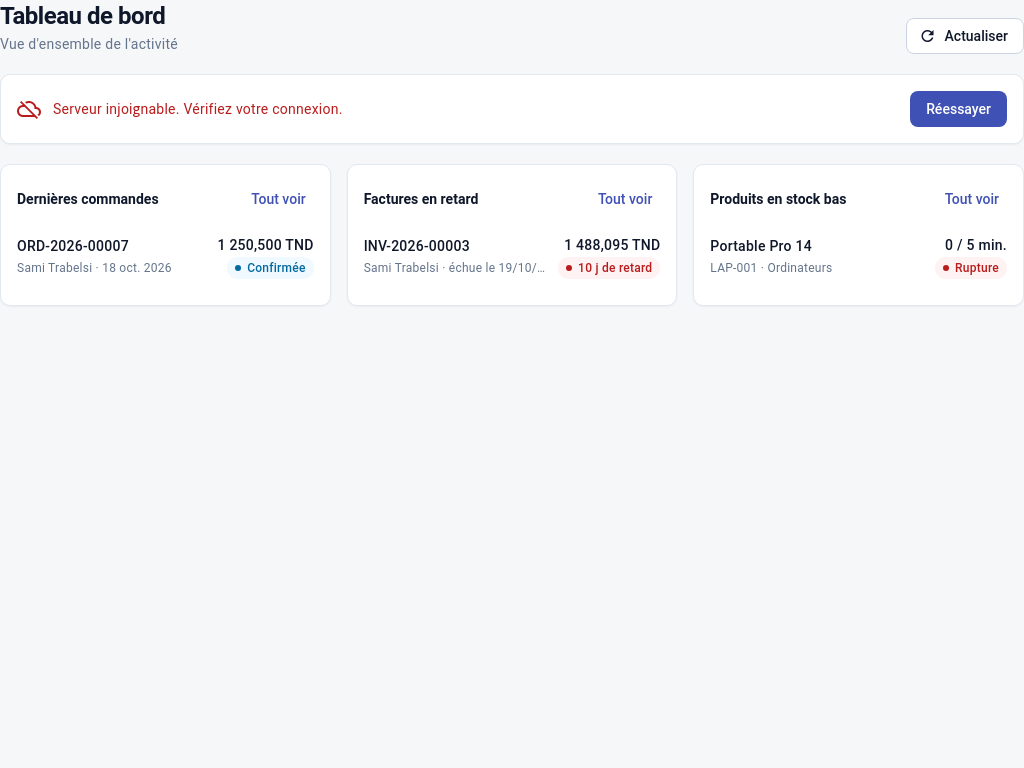
Scenario: DashboardComponent › shows the error and reloads on demand
Click the button with class "retry" at (959, 109), box top-left (910, 91), bottom-right (1007, 127)
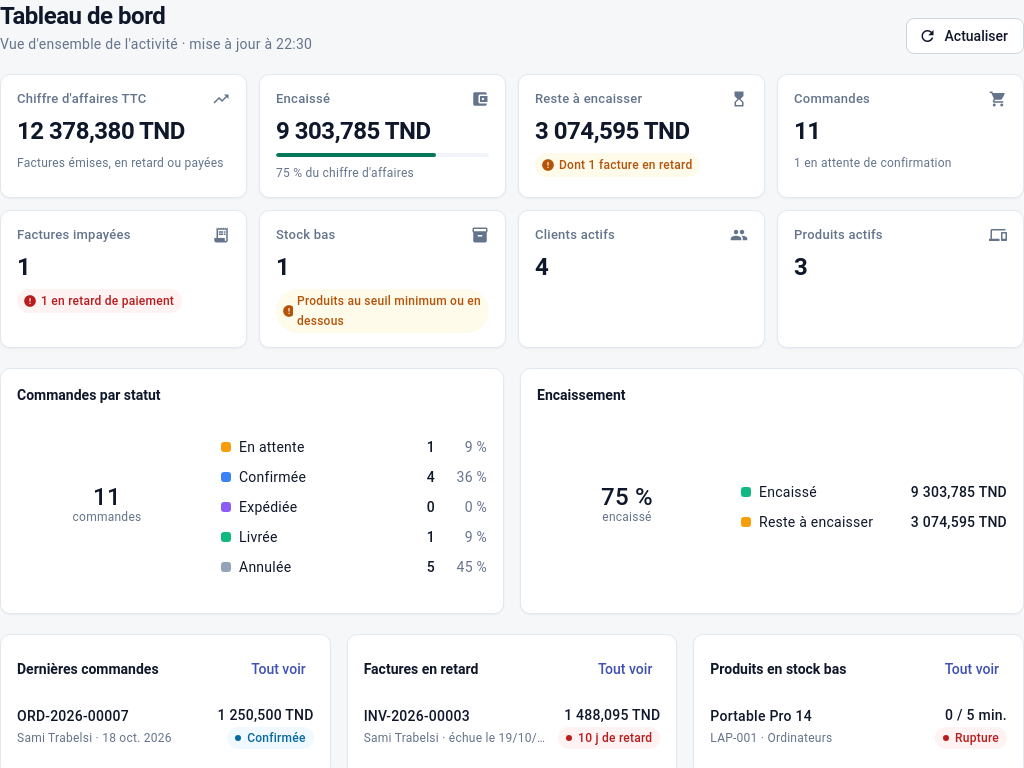
expect the message with class "error-panel" is gone: met
